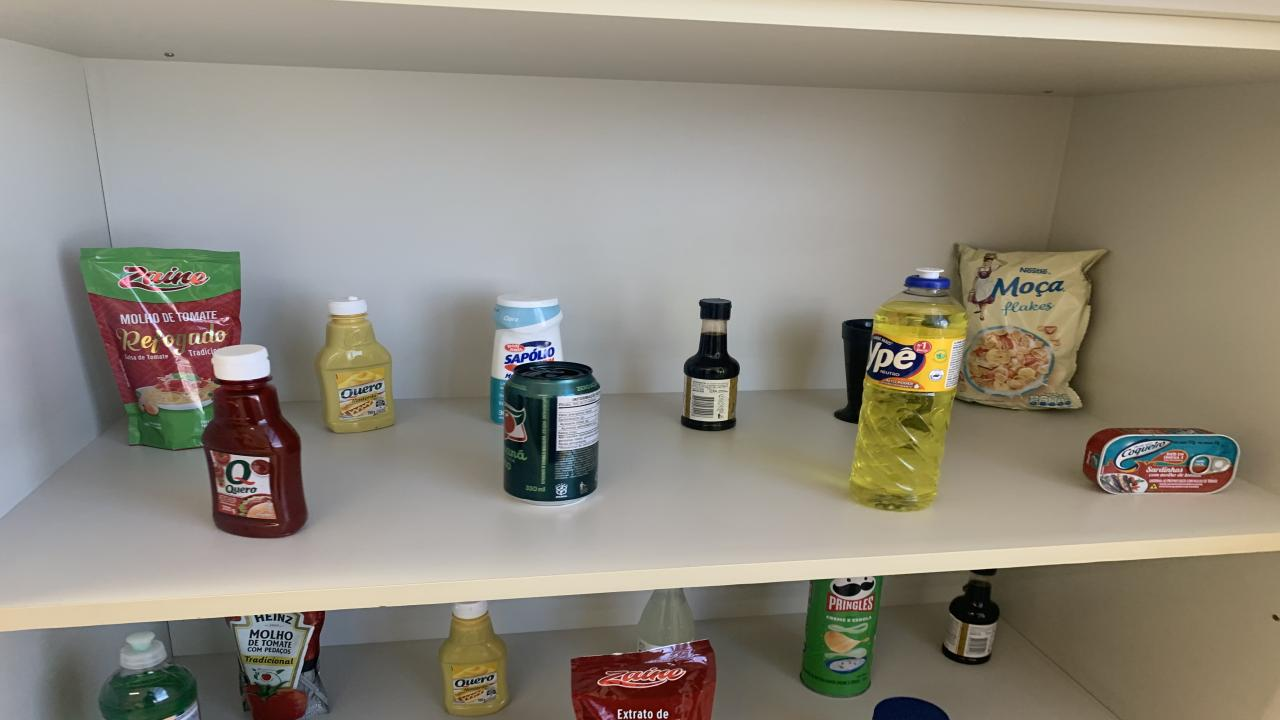Cleaner-Cleanup_Items: (490, 294, 562, 424)
Detergent-Cleanup_Items: (850, 268, 968, 512), (98, 632, 200, 720)
English_Sauce-Pantry_Items: (680, 298, 740, 431), (942, 570, 1000, 664)
Flakes-Snacks: (958, 246, 1108, 409)
Guarana_Can-Drinks: (502, 362, 600, 506)
Ketchup-Pantry_Items: (202, 345, 308, 538)
Mayonnaise-Pantry_Items: (872, 698, 950, 720)
Mustard-Pantry_Items: (315, 296, 395, 433), (440, 602, 508, 716)
Pringles-Snacks: (800, 576, 882, 698)
Soda-Drinks: (638, 589, 695, 651)
Tomato_Sauce-Pantry_Items: (80, 248, 242, 448), (570, 639, 715, 720), (228, 611, 330, 720)
Tuna_Can-Pantry_Items: (1082, 428, 1240, 493)
